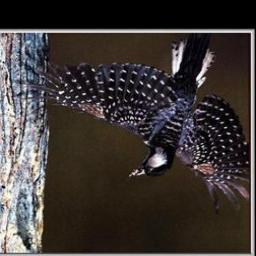Woodpecker: (21, 37, 250, 209)
